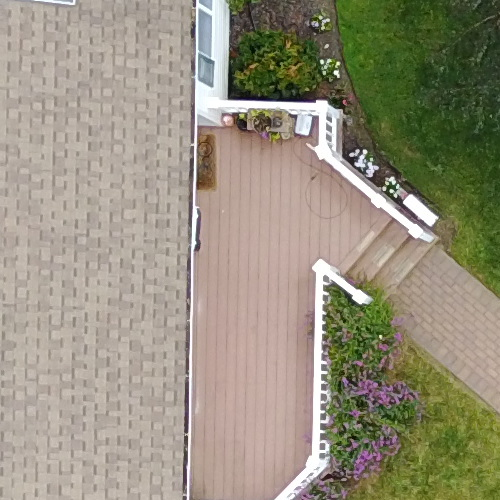flower pot: (252, 112, 275, 141), (271, 116, 284, 133)
